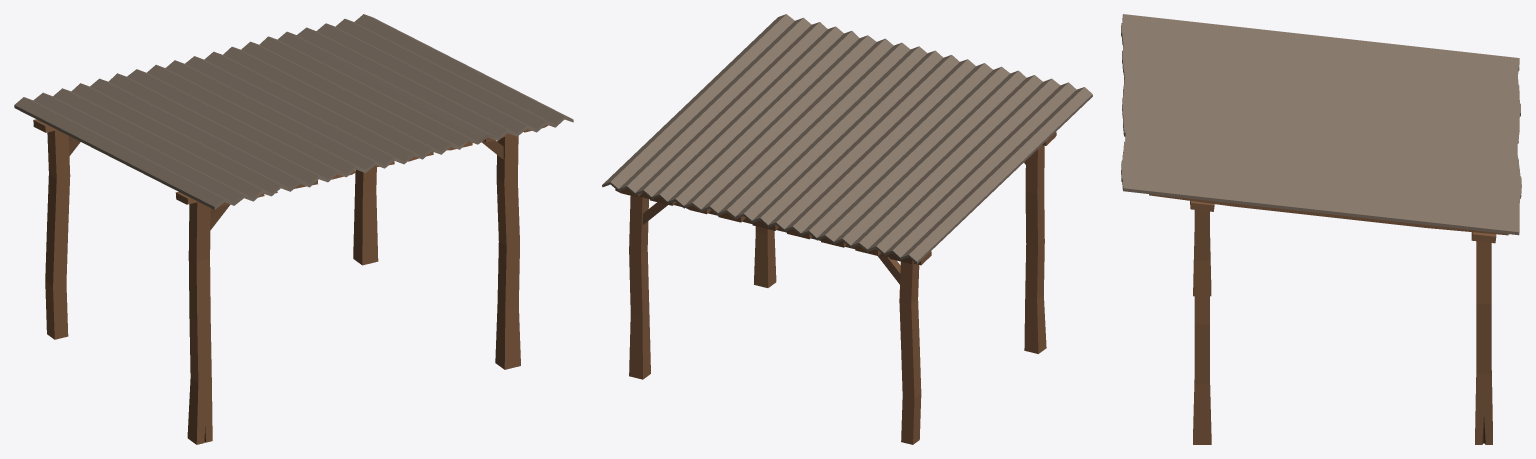
Rendered from Roof_01.glb.
3 views of the same model, side by side, from view 1: azimuth 30°, elevation 25°; view 2: azimuth 150°, elevation 25°; view 3: azimuth 270°, elevation 25° (orthographic). The views are drawn at different scales.
Parts seen in each view (by area): view 1: Roof_01; view 2: Roof_01; view 3: Roof_01.
Part boxes in pixels (<box>): Roof_01: <box>14,14,573,444</box>; Roof_01: <box>602,14,1092,444</box>; Roof_01: <box>1121,14,1521,444</box>.
Bounding box in the file's own units: 3.72 × 2.71 × 3.64.
Materials: 1 (1 with a texture image).
